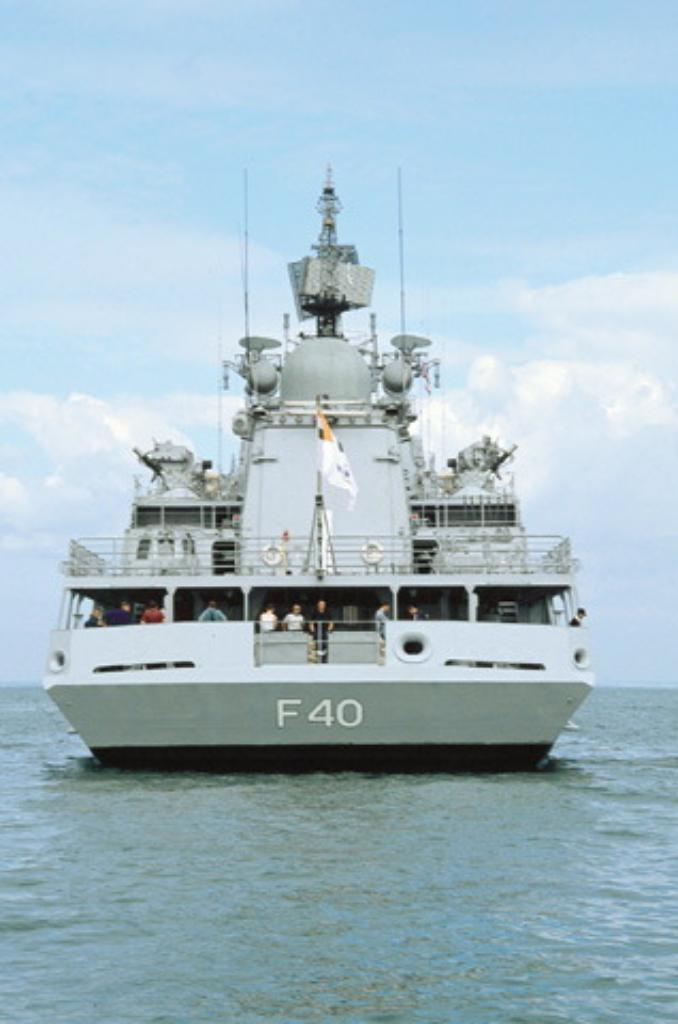Warship: (37, 150, 600, 772)
